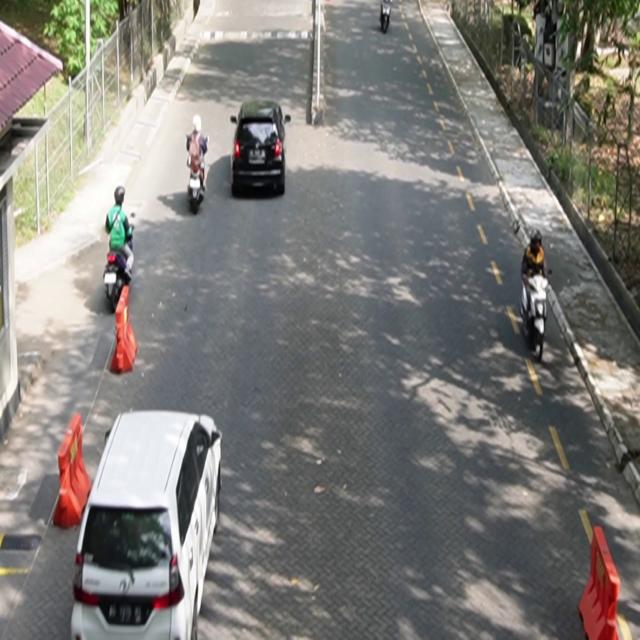car: (71, 410, 223, 640), (231, 98, 292, 197)
